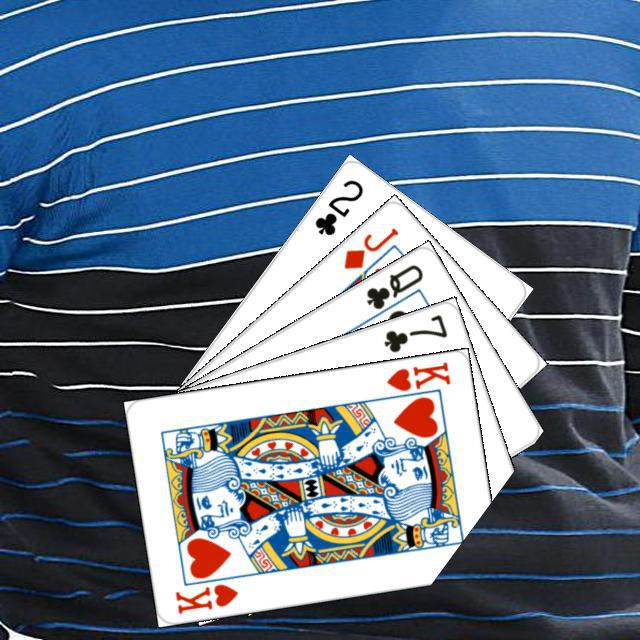2c: (309, 174, 366, 238)
7c: (378, 309, 449, 354)
Jd: (338, 223, 401, 271)
Kh: (377, 357, 452, 402), (170, 579, 240, 616)
Qc: (361, 259, 425, 322)
